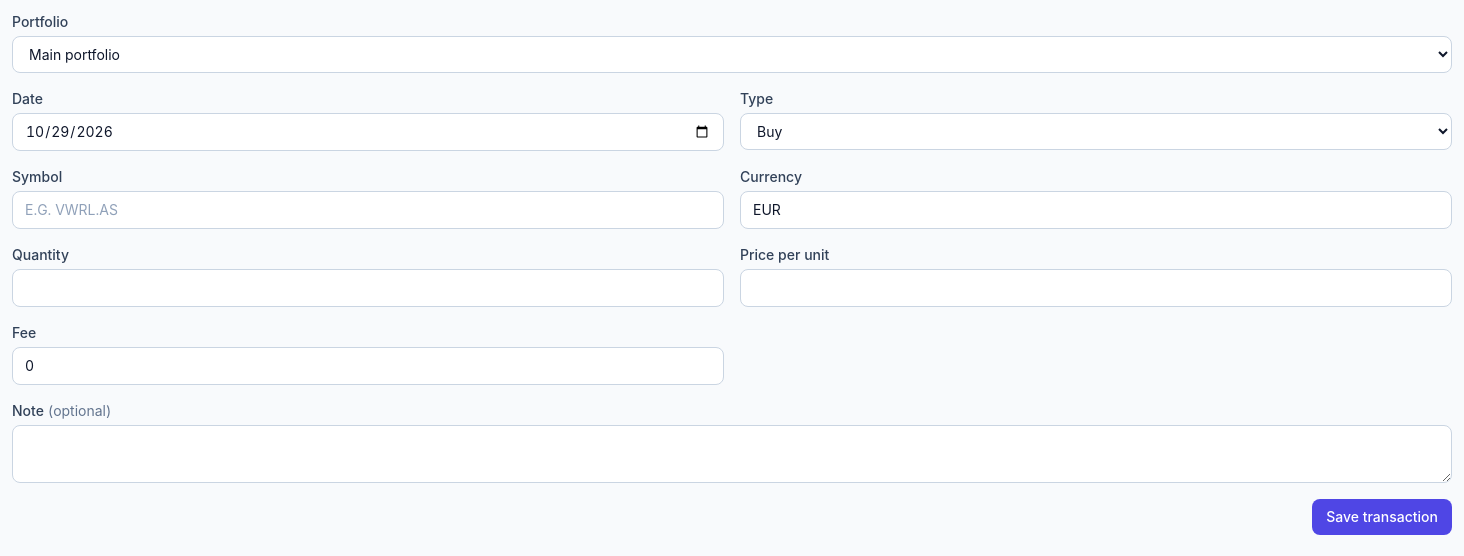
Scenario: TransactionForm (management types) › shows the server error for a split without a position
Select "Stock split" in the dropdown labelled "Type": (1096, 132) [740,113,1452,150]
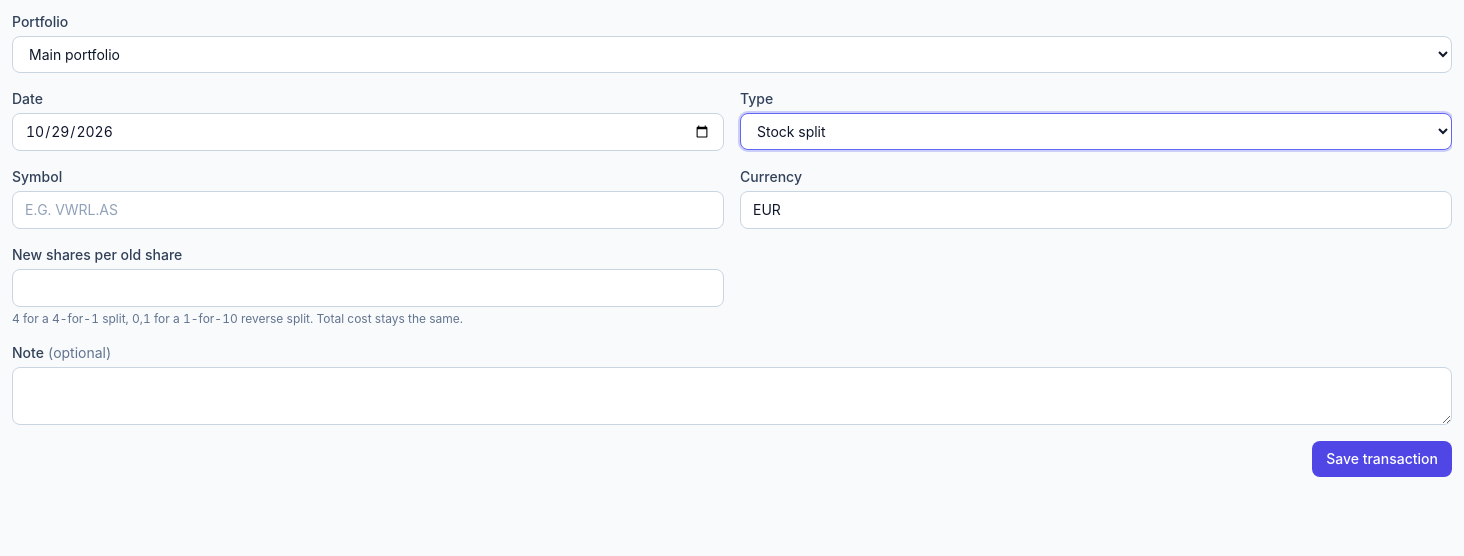
In the field labelled "Symbol": (368, 210) [12,191,724,229], type "NOPE"
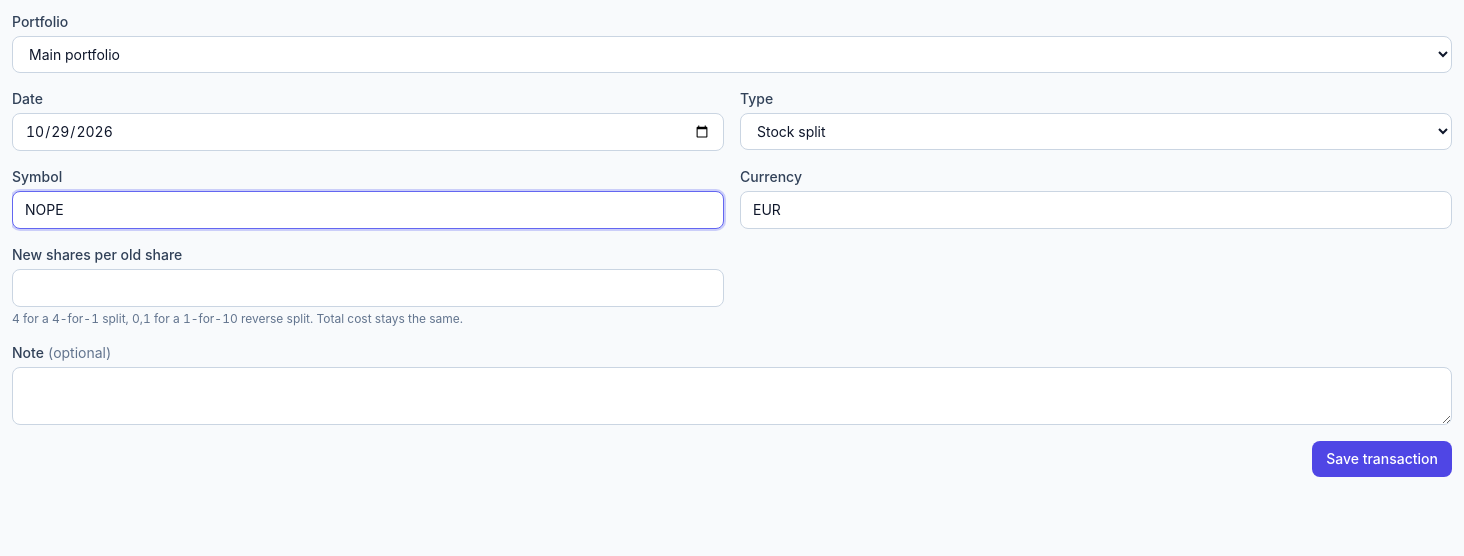
In the field labelled "New shares per old share": (368, 288) [12,269,724,307], type "2"
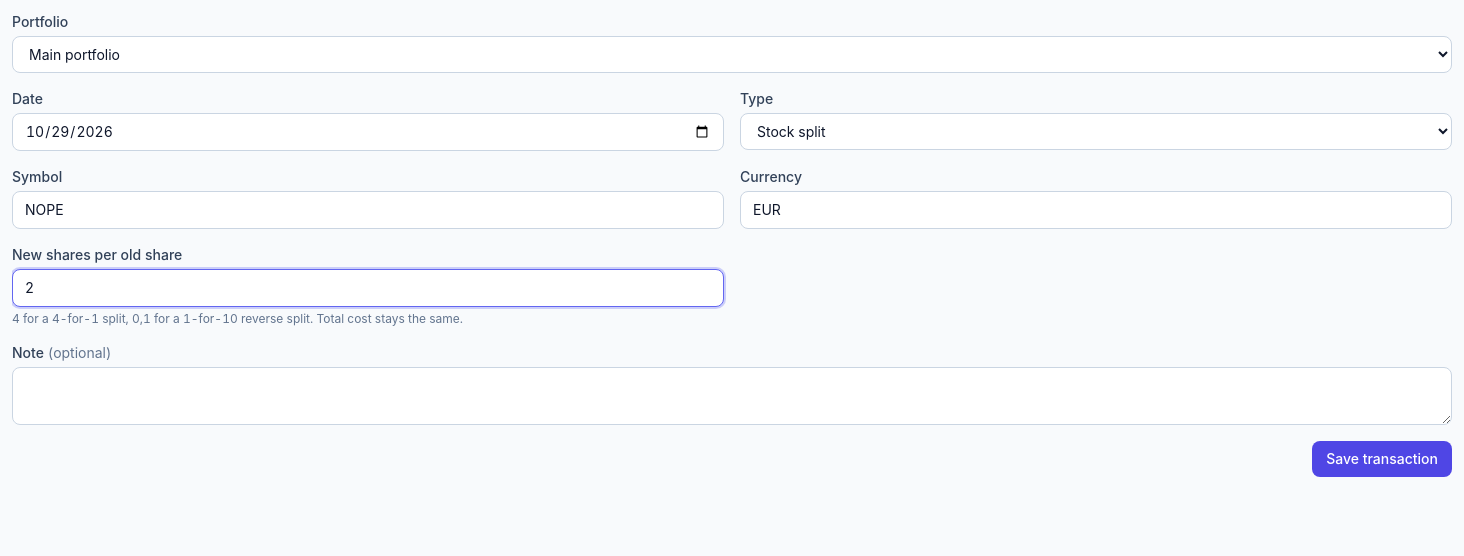
Click the button "Save transaction": (1382, 459) [1312,441,1452,477]
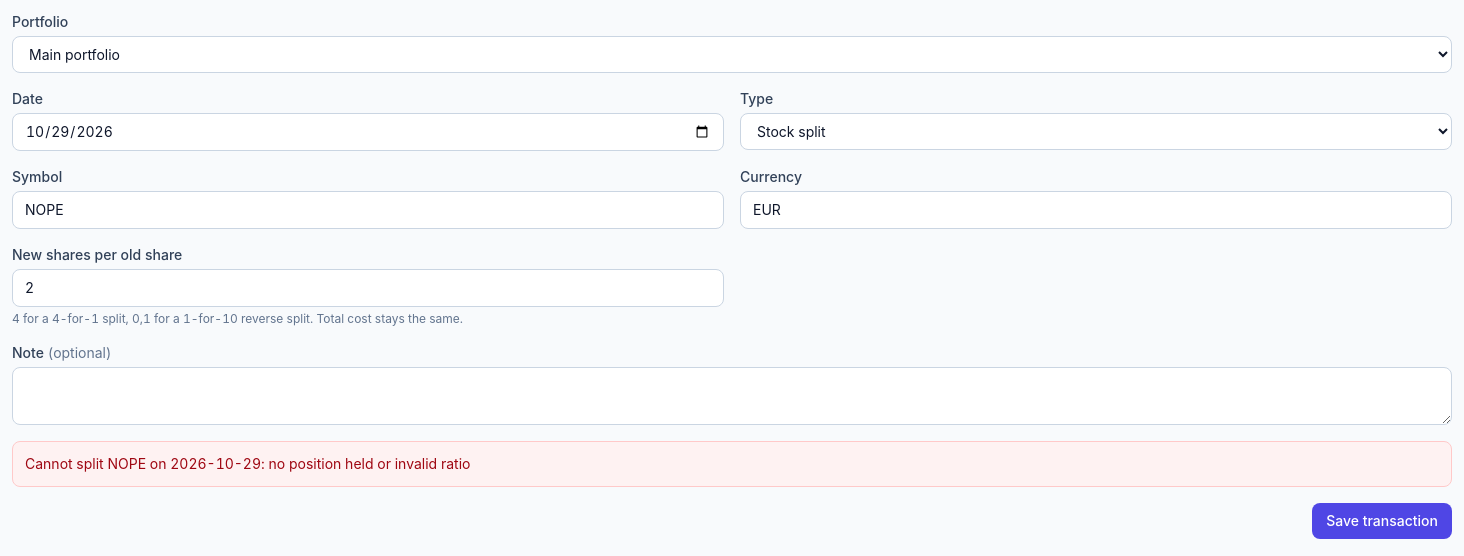
Check: the message shows "Cannot split NOPE", box [25,455,470,472]
